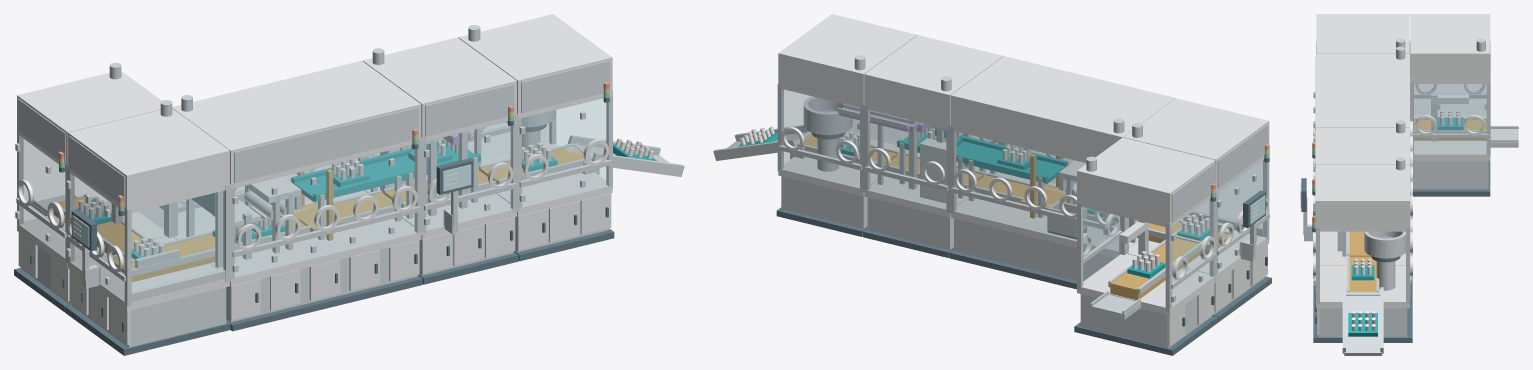
Rendered from flexfill-display.glb.
3 views of the same model, side by side, from view 1: azimuth 30°, elevation 25°; view 2: azimuth 150°, elevation 25°; view 3: azimuth 270°, elevation 25° (orthographic). The views are drawn at different scales.
Parts seen in each view (by area): view 1: 2_glass_126, 2_hood_119, 1_hood_58, 1_glass_89, 4_glass_326, 3_hood_236, 4_hood_319, 2_hood_120, 0_hood_8, 3_glass_243, 2_body_108, 1_body_50 (+59 smaller); view 2: 2_hood_119, 2_glass_125, 0_hood_8, 4_hood_319, 3_hood_236, 4_glass_325, 3_glass_242, 1_hood_58, 2_body_107, 2_body_108, 4_body_311, 3_body_228 (+42 smaller); view 3: 2_hood_119, 4_hood_319, 0_hood_8, 0_glass_14, 1_hood_58, 3_hood_236, 0_body_2, 4_body_312, 0_body_3, 4_process_377, 4_body_311, 0_glass_15 (+27 smaller).
Boxes of the visible parts, <box> form: 2_glass_126: <box>235,144,417,277</box>; 2_hood_119: <box>172,60,421,188</box>; 1_hood_58: <box>68,108,229,212</box>; 1_glass_89: <box>132,191,224,292</box>; 4_glass_326: <box>522,97,608,207</box>; 3_hood_236: <box>362,37,516,142</box>; 4_hood_319: <box>458,14,612,118</box>; 2_hood_120: <box>234,107,418,183</box>; 0_hood_8: <box>17,71,161,169</box>; 3_glass_243: <box>426,120,512,230</box>; 2_body_108: <box>174,190,421,285</box>; 1_body_50: <box>72,287,226,347</box>; 2_hood_119: <box>950,56,1175,162</box>; 2_glass_125: <box>954,130,1118,250</box>; 0_hood_8: <box>1077,137,1215,227</box>; 4_hood_319: <box>778,14,917,108</box>; 3_hood_236: <box>864,35,1003,129</box>; 4_glass_325: <box>781,88,859,188</box>; 3_glass_242: <box>868,109,945,209</box>; 1_hood_58: <box>1123,98,1269,194</box>; 2_body_107: <box>954,218,1114,280</box>; 2_body_108: <box>950,173,1138,257</box>; 4_body_311: <box>781,176,867,228</box>; 3_body_228: <box>867,197,953,249</box>; 2_hood_119: <box>1316,54,1409,127</box>; 4_hood_319: <box>1316,164,1409,231</box>; 0_hood_8: <box>1410,14,1490,83</box>; 0_glass_14: <box>1414,83,1486,154</box>; 1_hood_58: <box>1316,14,1409,53</box>; 3_hood_236: <box>1316,127,1409,164</box>; 0_body_2: <box>1413,160,1488,189</box>; 4_body_312: <box>1316,265,1409,308</box>; 0_body_3: <box>1413,115,1490,160</box>; 4_process_377: <box>1344,292,1381,355</box>; 4_body_311: <box>1318,308,1407,337</box>; 0_glass_15: <box>1414,84,1486,114</box>.
Size of the model in its own units: 0.4019 by 0.124 by 0.1628.
